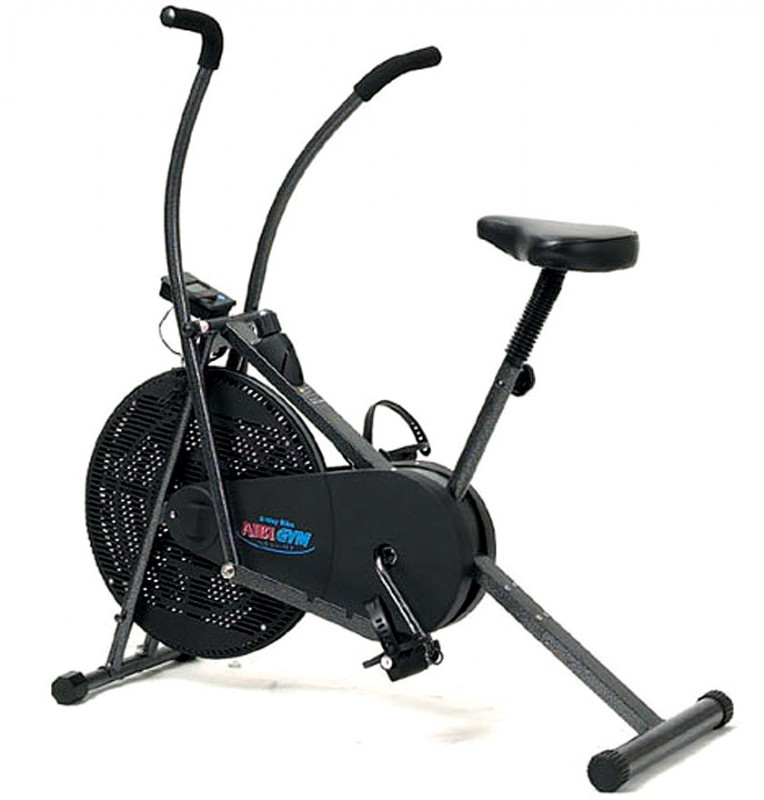gym_bike: (54, 1, 743, 776)
